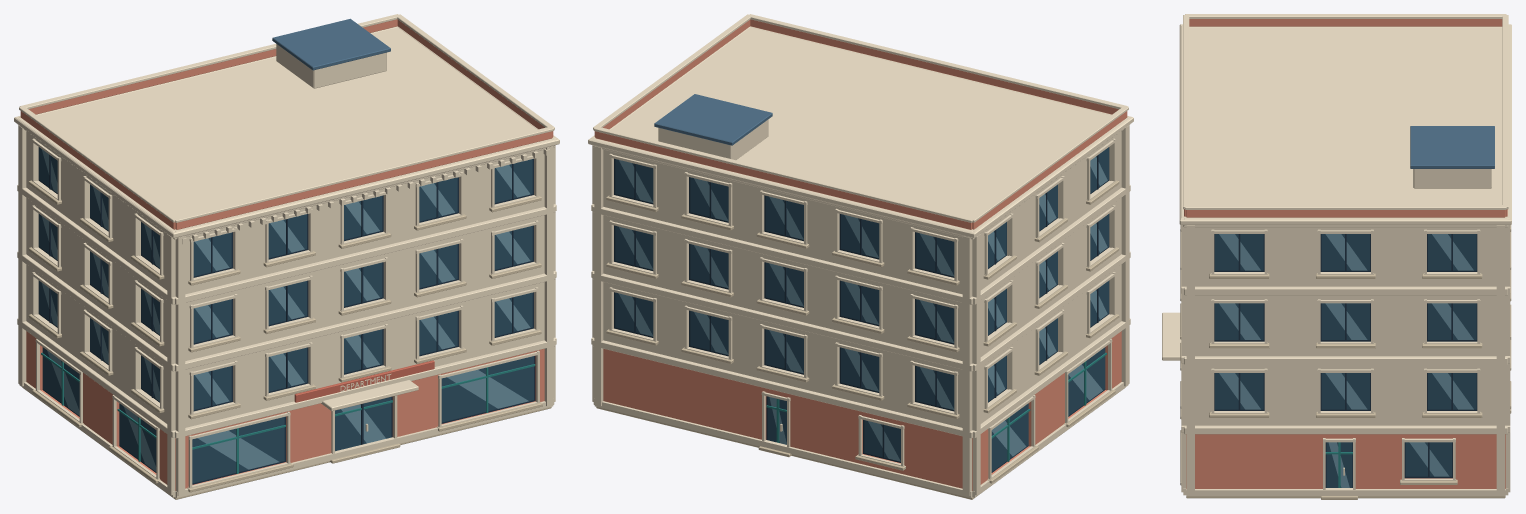
Rendered from department_store.glb.
3 renders of one model, left to right at view 1: azimuth 30°, elevation 25°; view 2: azimuth 150°, elevation 25°; view 3: azimuth 270°, elevation 25°, orthographic. The views are drawn at different scales.
Visible parts, largest first — view 1: DepartmentStore_StaticMesh; view 2: DepartmentStore_StaticMesh; view 3: DepartmentStore_StaticMesh.
Part boxes in pixels (bbox=[...]): DepartmentStore_StaticMesh: bbox=[14, 14, 559, 499]; DepartmentStore_StaticMesh: bbox=[588, 14, 1133, 499]; DepartmentStore_StaticMesh: bbox=[1162, 14, 1511, 499].
Size of the model in its own units: 18.92 by 13.76 by 14.24.
